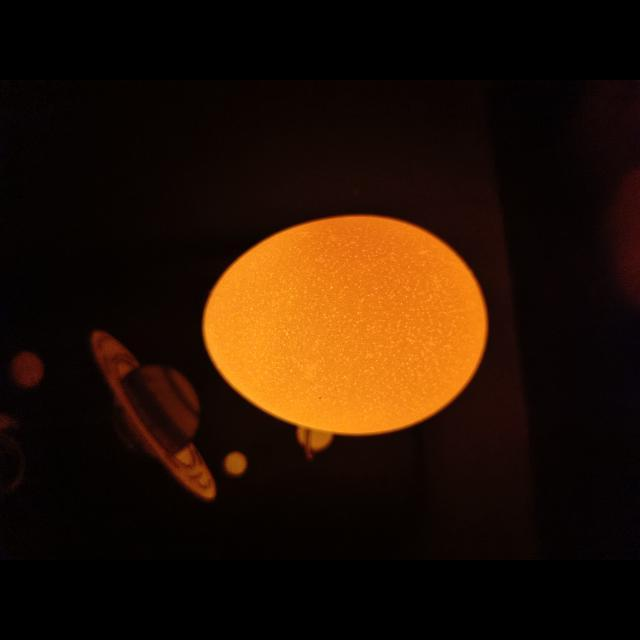AA - Premium: (203, 215, 488, 435)
